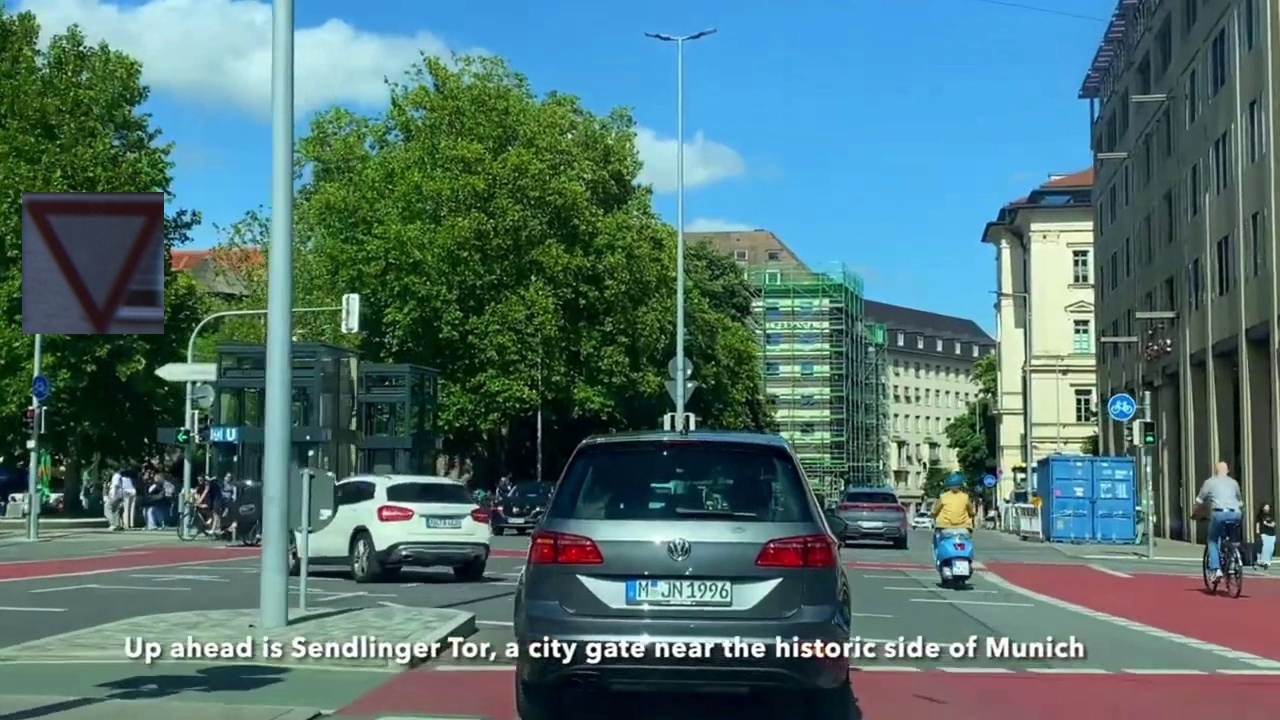Yield: (22, 192, 164, 334)
